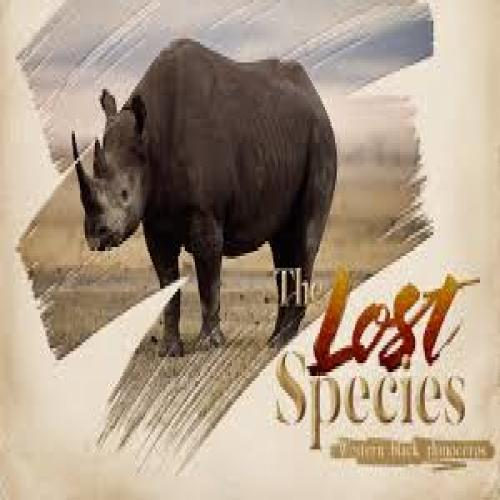rhino-endangered: (67, 40, 340, 348)
